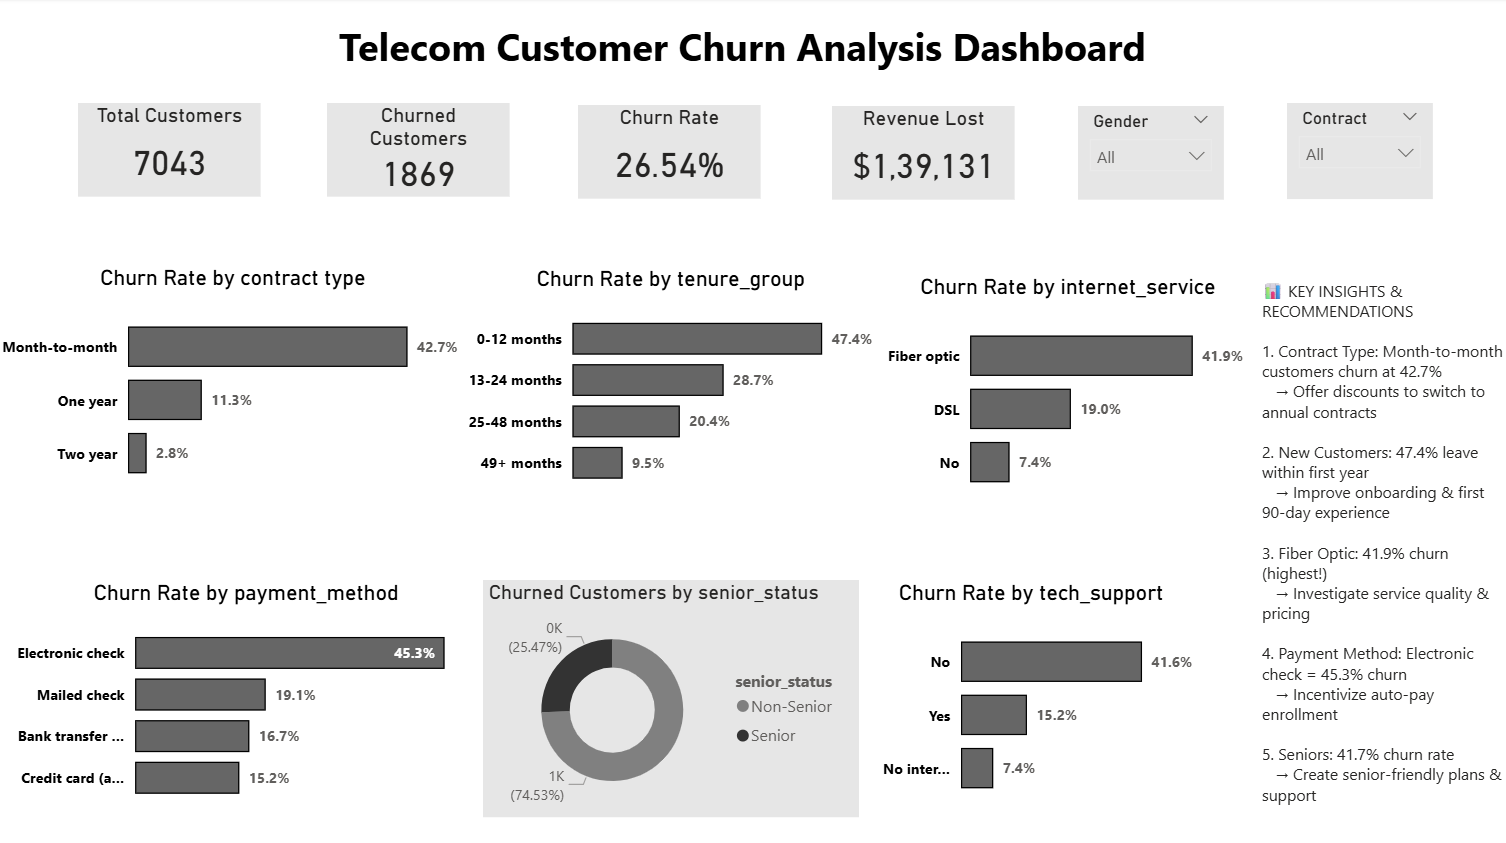

The dashboard page shown, as its layout file describes it:
{"tool":"powerbi","page":{"name":"Page 1","canvas":[1280,720],"ordinal":0},"visuals":[{"type":"card","title":"Total Customers","fields":{"Values":["Churn_analysis.Total Customers"]},"box":[70.5,88.9,154.4,78.7],"z":0},{"type":"card","title":"Churned Customers","fields":{"Values":["Churn_analysis.Churned Customers"]},"box":[281.2,88.9,154.4,78.7],"z":1},{"type":"card","title":"Churn Rate","fields":{"Values":["Churn_analysis.Churn Rate"]},"box":[492.8,90,154.4,78.7],"z":2},{"type":"card","title":"Revenue Lost","fields":{"Values":["Churn_analysis.Monthly Revenue Lost"]},"box":[706.5,91,154.4,78.7],"z":3},{"type":"clusteredBarChart","title":"Churn Rate by contract type","fields":{"Y":["Churn_analysis.Churn Rate"],"Category":["Churn_analysis.contract"]},"box":[0,224.9,402.8,200.4],"z":4},{"type":"clusteredBarChart","fields":{"Category":["Churn_analysis.tenure_group"],"Y":["Churn_analysis.Churn Rate"]},"box":[393.6,225.9,353.7,199.4],"z":5},{"type":"clusteredBarChart","fields":{"Category":["Churn_analysis.internet_service"],"Y":["Churn_analysis.Churn Rate"]},"box":[747.3,233.1,316.9,200.4],"z":6},{"type":"clusteredBarChart","fields":{"Y":["Churn_analysis.Churn Rate"],"Category":["Churn_analysis.payment_method"]},"box":[0,490.7,425.3,200.4],"z":7},{"type":"donutChart","fields":{"Y":["Churn_analysis.Churned Customers"],"Category":["Churn_analysis.senior_status"]},"box":[412,490.7,316.9,200.4],"z":8},{"type":"slicer","fields":{"Values":["Churn_analysis.gender"]},"box":[914,91,122.7,78.7],"z":9},{"type":"slicer","fields":{"Values":["Churn_analysis.contract"]},"box":[1089.8,88.9,122.7,80.8],"z":10},{"type":"textbox","box":[258.7,13.3,744.3,67.5],"z":11},{"type":"clusteredBarChart","fields":{"Category":["Churn_analysis.tech_support"],"Y":["Churn_analysis.Churn Rate"]},"box":[728.9,490.7,290.4,200.4],"z":12},{"type":"textbox","box":[1064.3,233.1,215.7,464.2],"z":13}]}

Visuals, with their boxes in screenshot pixels (x1, y1, x2, y2), scaled from the page's 1280x720 canvas onto the 1506x843 screenshot:
"Total Customers" card: locate(83, 104, 265, 196)
"Churned Customers" card: locate(331, 104, 513, 196)
"Churn Rate" card: locate(580, 105, 761, 198)
"Revenue Lost" card: locate(831, 107, 1013, 199)
"Churn Rate by contract type" clusteredBarChart: locate(0, 263, 474, 498)
clusteredBarChart - Churn_analysis.tenure_group x Churn_analysis.Churn Rate: locate(463, 264, 879, 498)
clusteredBarChart - Churn_analysis.internet_service x Churn_analysis.Churn Rate: locate(879, 273, 1252, 508)
clusteredBarChart - Churn_analysis.Churn Rate x Churn_analysis.payment_method: locate(0, 575, 500, 809)
donutChart - Churn_analysis.Churned Customers x Churn_analysis.senior_status: locate(485, 575, 858, 809)
slicer - Churn_analysis.gender: locate(1075, 107, 1220, 199)
slicer - Churn_analysis.contract: locate(1282, 104, 1427, 199)
textbox: locate(304, 16, 1180, 95)
clusteredBarChart - Churn_analysis.tech_support x Churn_analysis.Churn Rate: locate(858, 575, 1199, 809)
textbox: locate(1252, 273, 1505, 816)
